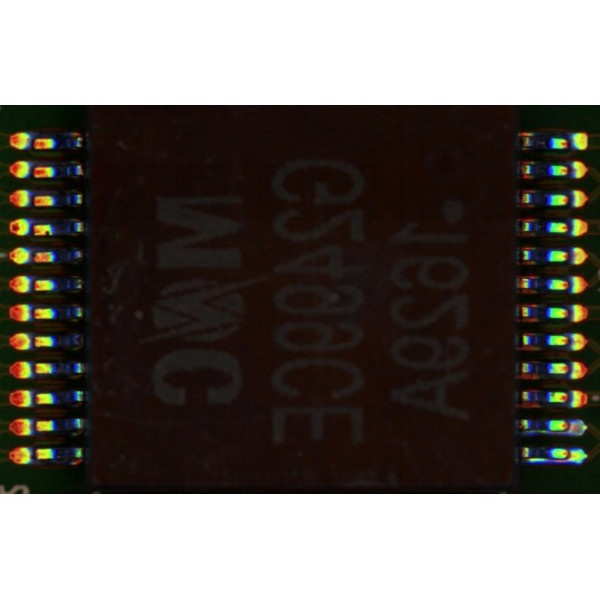Bad_podu: (564, 450, 578, 458), (563, 421, 574, 431)
Bad_qiaojiao: (526, 458, 568, 463), (519, 431, 568, 435)
